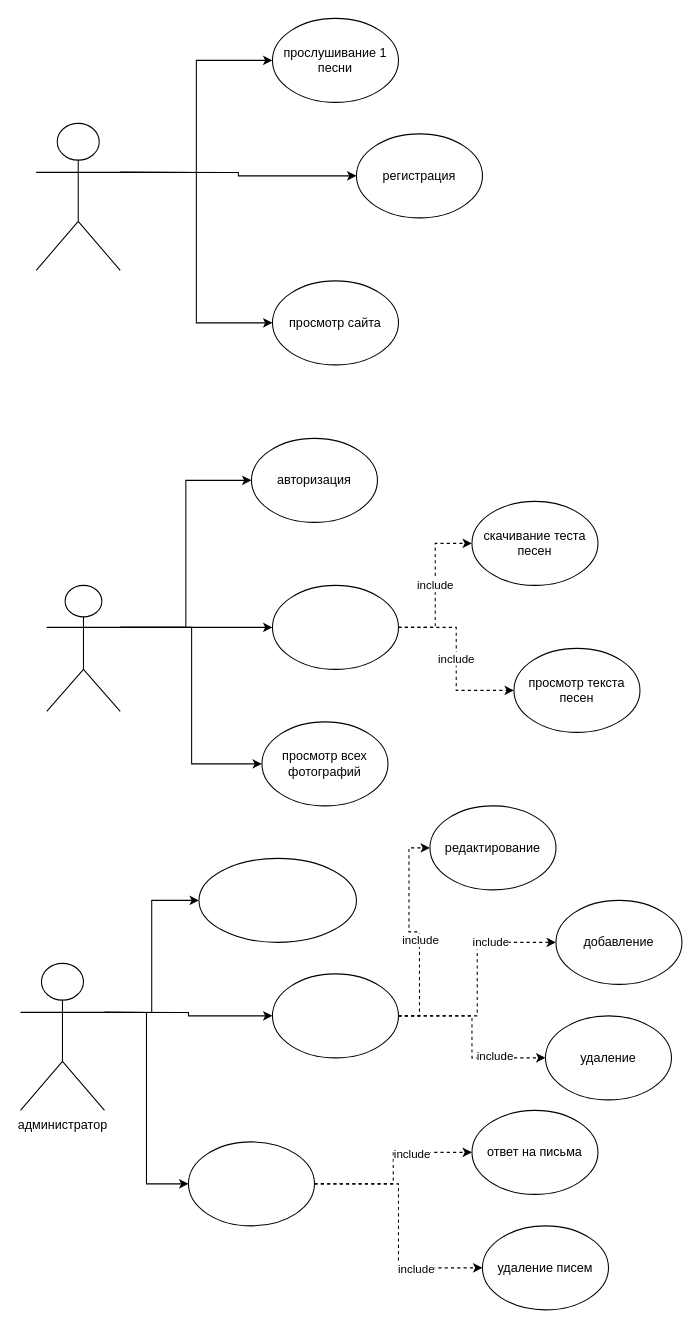
The diagram is 700 pixels wide and 1328 high, and some of its shapes have lost their labels. Each missing label, with the centre of its shape:
"гость" belongs at pixel 77 196.
"обновление контента" belongs at pixel 334 1015.
"пользователь" belongs at pixel 83 647.
"прослушивание песен" belongs at pixel 334 626.
"просмотр зарегистрировавшихся пользователей" belongs at pixel 277 899.
"просмотр электронных писем" belongs at pixel 250 1183.
